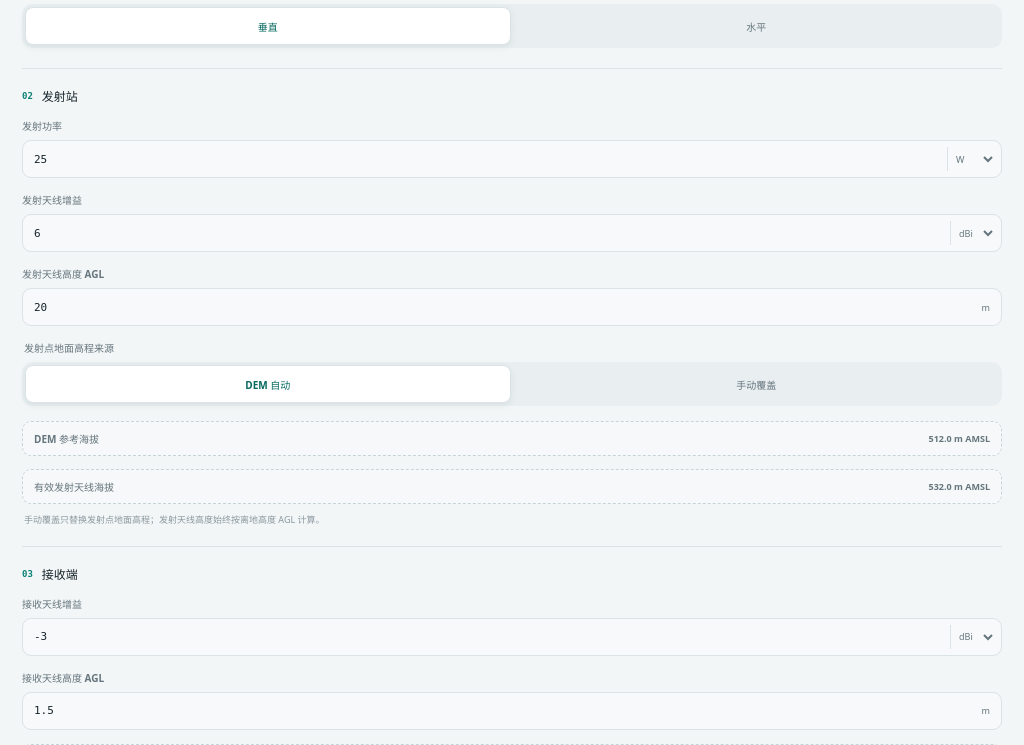
Test case: transmitter ground elevation controls › keeps DEM visible while switching between automatic and manual ground elevation
(page scrolled)
Expected: the text "512.0 m AMSL" is shown, [929, 432, 990, 445]
Expected: the number field labelled "手动地面海拔 AMSL" is not shown
Click the button "手动覆盖" at [756, 384], box [514, 365, 999, 403]
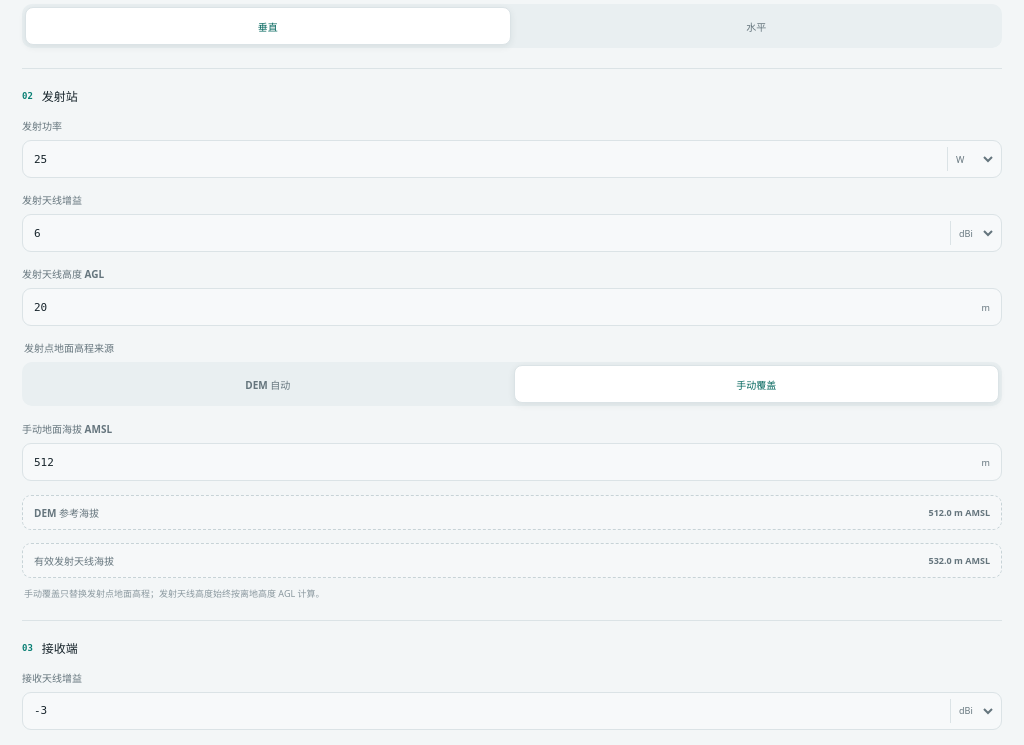
Expected: the number field labelled "手动地面海拔 AMSL m" holds "512"
Replace the text in the number field labelled "手动地面海拔 AMSL m" with "-500" at [497, 462], box [23, 444, 971, 480]
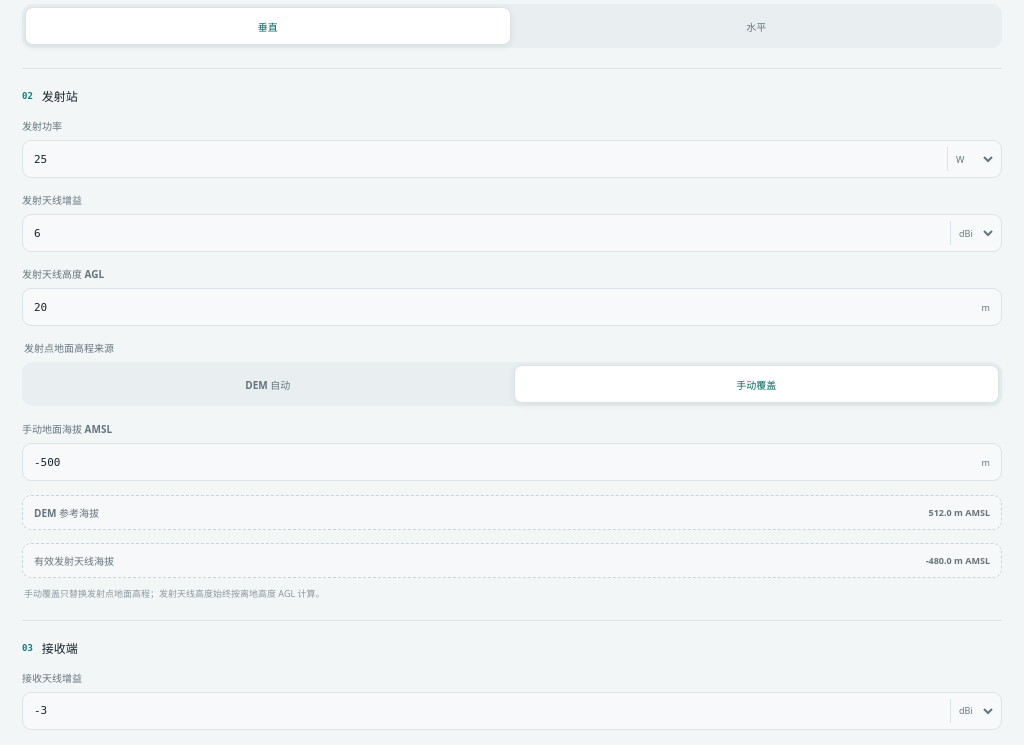
Expected: the text "手动覆盖只替换发射点地面高程；发射天线高度始终按离地高度 AGL 计算。" is shown, [24, 587, 324, 600]
Expected: the text "-480.0 m AMSL" is shown, [926, 554, 990, 567]
Click the button "DEM 自动" at [268, 384], box [25, 365, 510, 403]
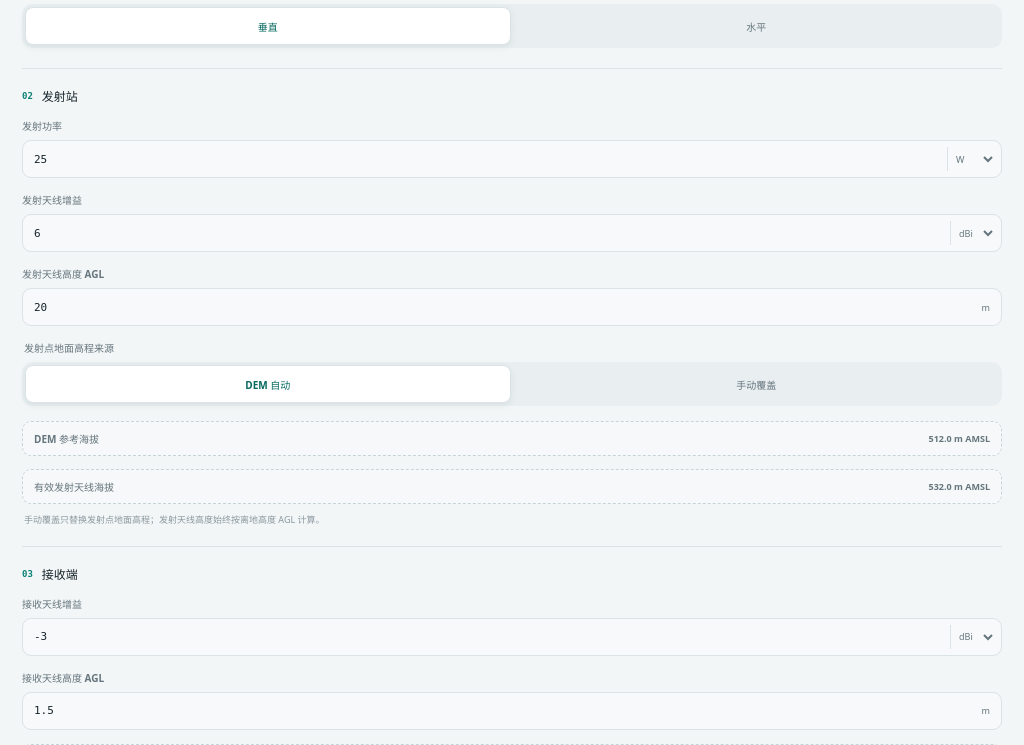
Expected: the text "手动地面海拔 AMSL" is gone
Expected: the text "532.0 m AMSL" is shown, [929, 480, 990, 493]
